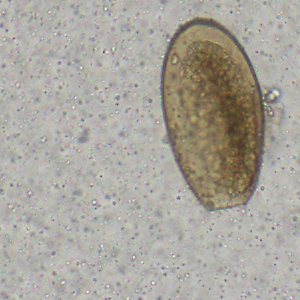Fasciola_hepatica_egg: (159, 14, 266, 212)
